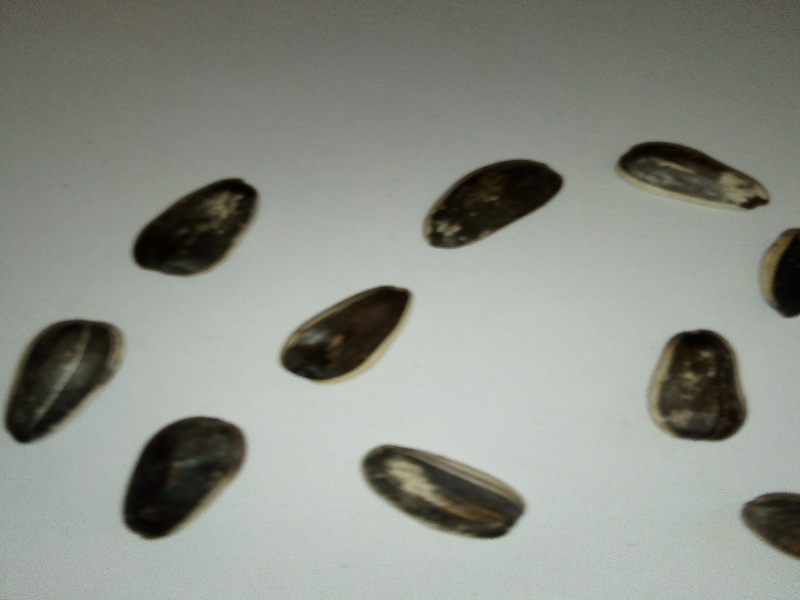girasol: (351, 435, 541, 550), (110, 409, 254, 545), (417, 145, 569, 268), (1, 312, 129, 453), (269, 273, 420, 390), (122, 168, 275, 281), (634, 318, 755, 458), (605, 128, 778, 223)
